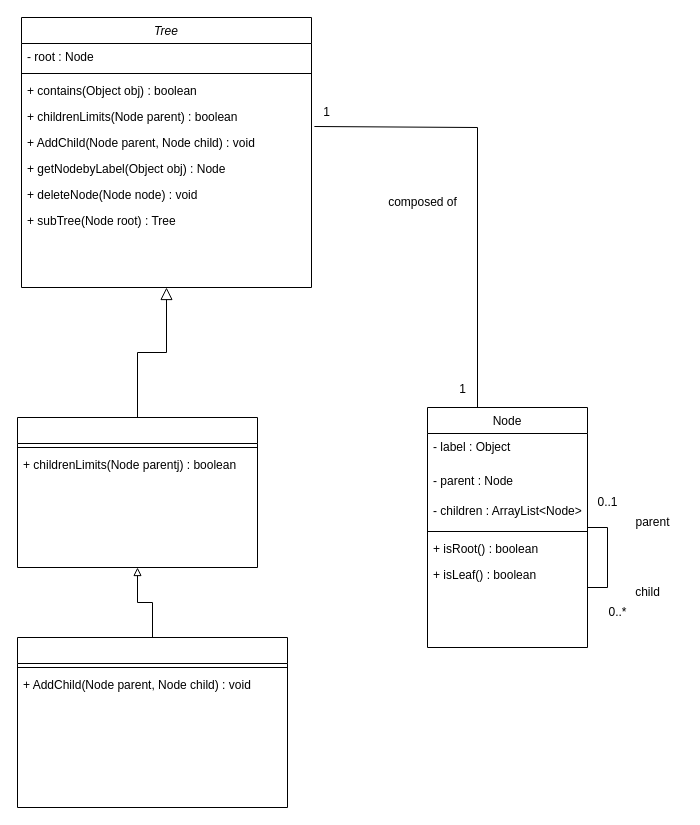
The diagram is 700 pixels wide and 825 high, and some of its shapes have lost their labels. The box of each missing label's shape, as (x1, y1, x2, y2) in pixels:
Binary Tree: (16, 416, 258, 568)
BinarySearchTree: (16, 636, 288, 808)
